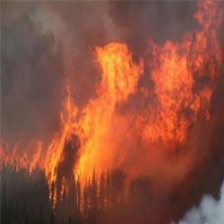fire: (31, 24, 211, 198)
